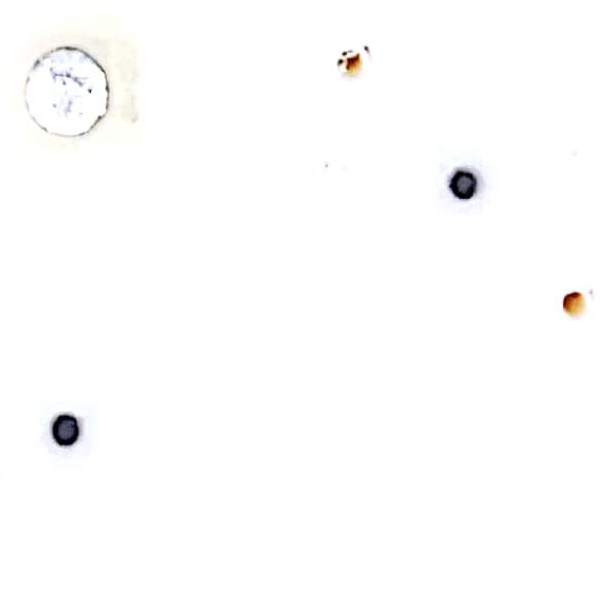abnormal: (1, 18, 172, 169)
cancer: (415, 142, 513, 228), (39, 389, 114, 463)
normal: (312, 34, 394, 103), (552, 278, 607, 324)
